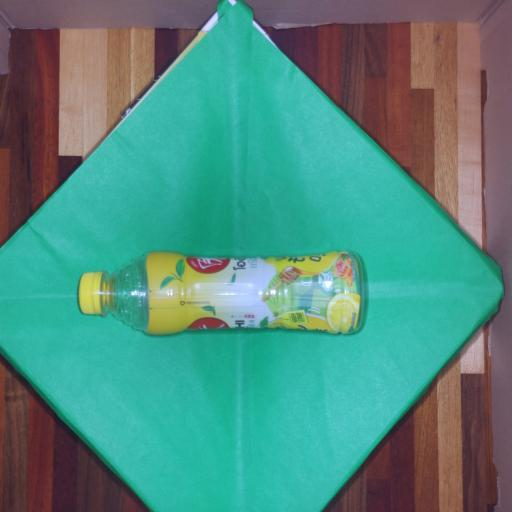bottle: (70, 240, 376, 348)
